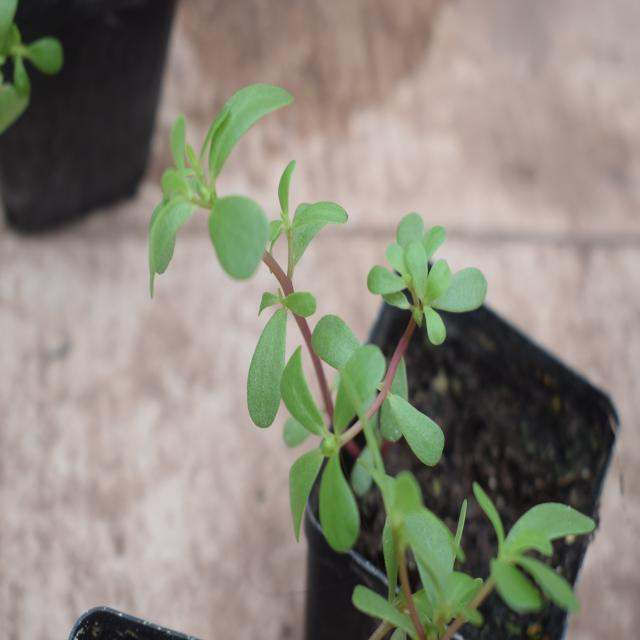purslane: (146, 72, 529, 612)
